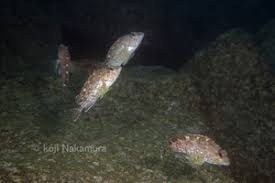kasago: (64, 61, 123, 126), (156, 132, 236, 173), (105, 34, 144, 68)
